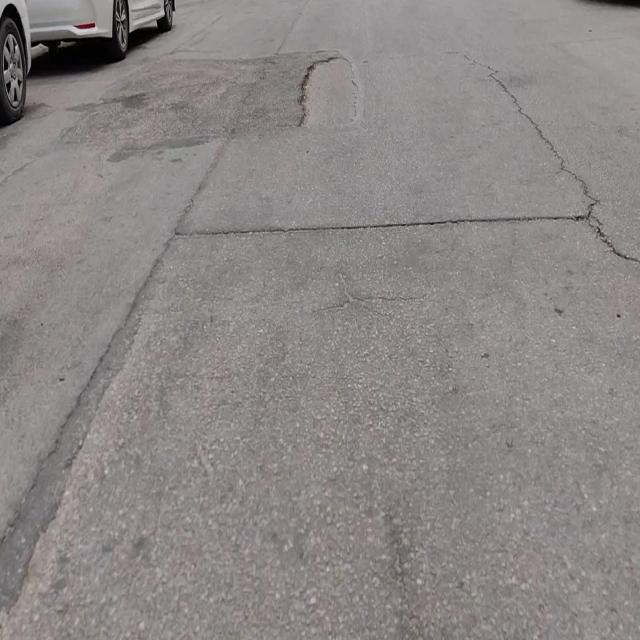Potholes: (297, 55, 358, 128)
